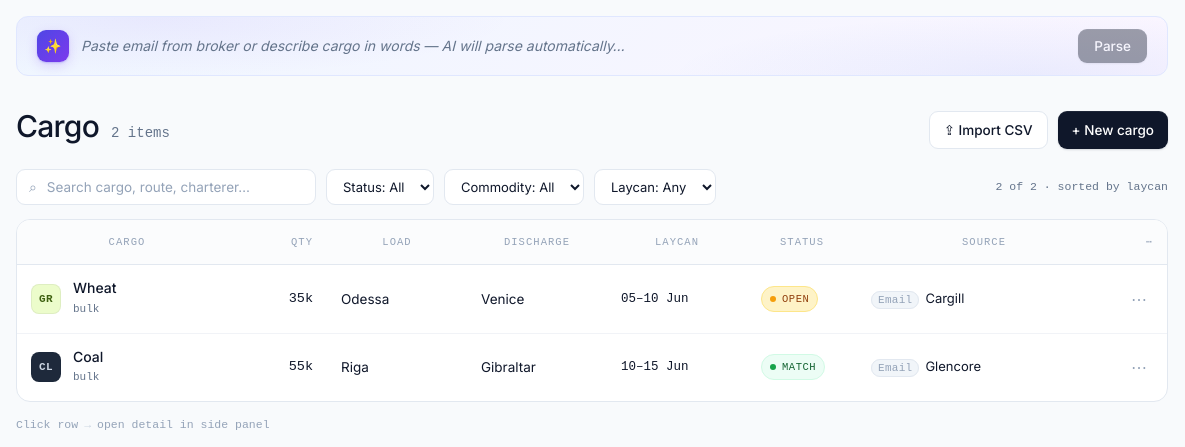
Test: CargoClient › commodity filter hides non-matching rows
The image size is (1185, 447).
Select "GR" in the dropdown named "Filter by commodity". click: {"x": 514, "y": 187}
box: [444, 169, 584, 205]
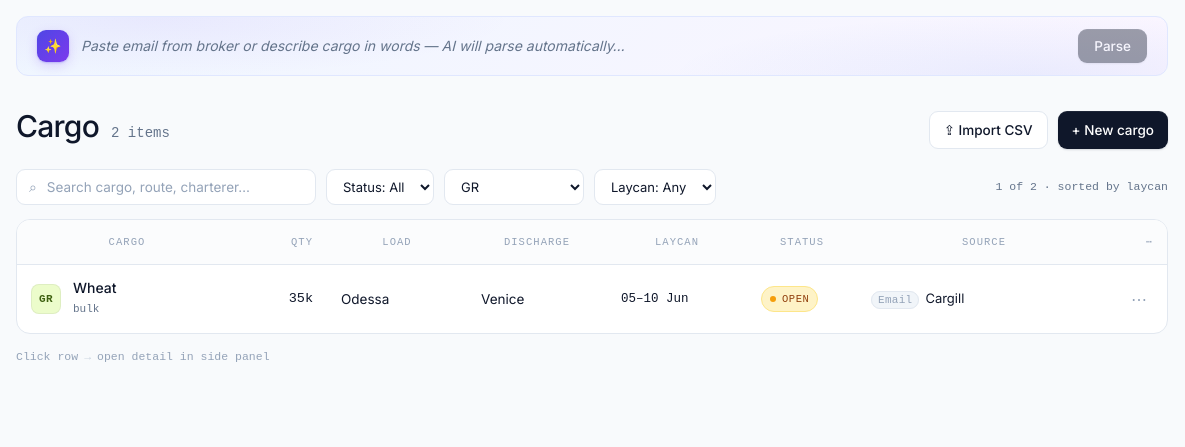
Expected: the text "Wheat" is shown, [73, 279, 116, 296]
Now the text "Coal" is gone
